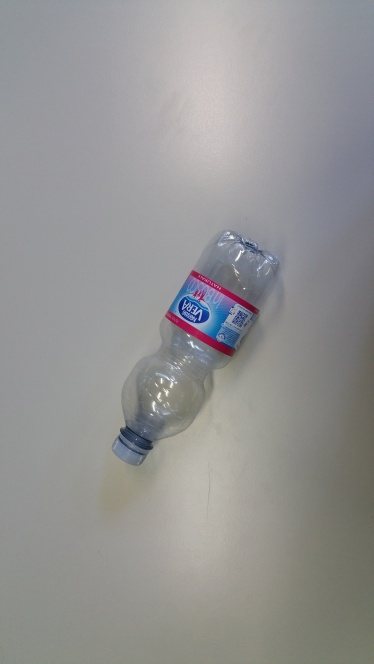bottle: (105, 233, 279, 456)
